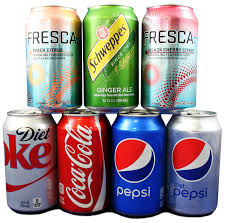coke: (56, 112, 108, 214)
